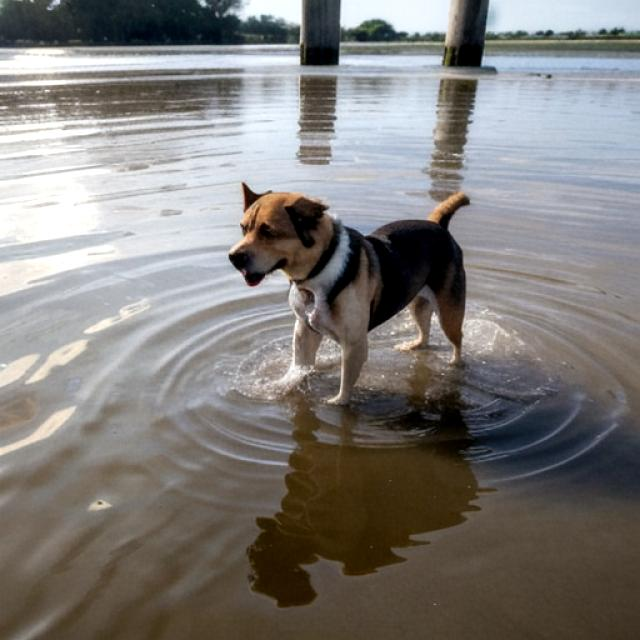dog: (214, 175, 497, 415)
